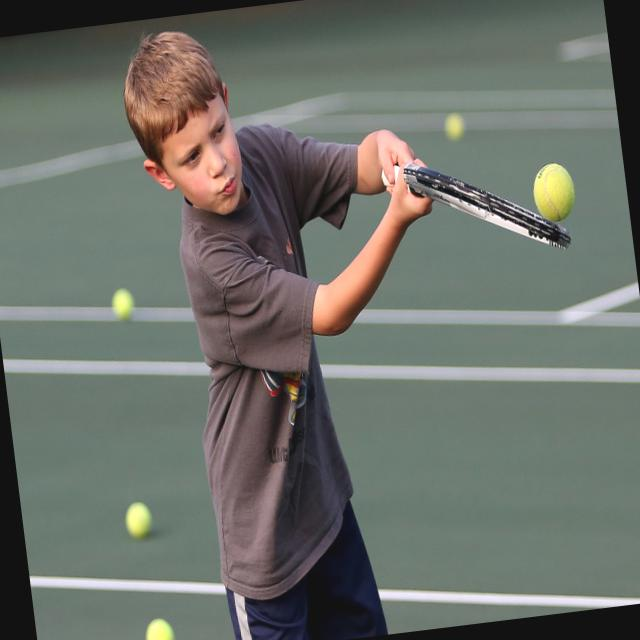Tennis Ball: (530, 160, 576, 223), (120, 499, 150, 542), (440, 106, 466, 142), (107, 284, 134, 318), (141, 615, 177, 640)
